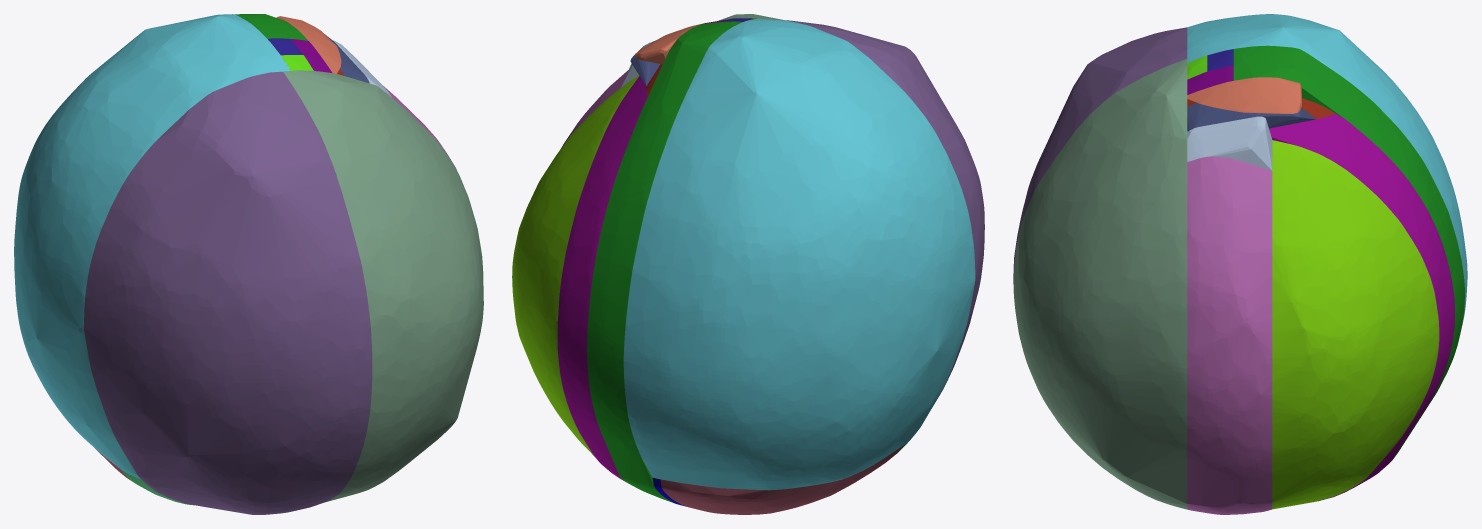
The model's file is coacd_collision.obj.
The picture shows the model from 3 angles, left to right: view 1: azimuth 30°, elevation 25°; view 2: azimuth 150°, elevation 25°; view 3: azimuth 270°, elevation 25°; orthographic projection. The views are drawn at different scales.
Parts seen in each view (by area): view 1: geometry_1, geometry_0, geometry_2, geometry_9, geometry_8, geometry_11; view 2: geometry_2, geometry_8, geometry_4, geometry_14, geometry_1, geometry_13, geometry_9; view 3: geometry_0, geometry_4, geometry_7, geometry_2, geometry_8, geometry_14, geometry_1, geometry_6, geometry_9, geometry_16, geometry_11.
Part boxes in pixels (box(x1,y1,x2,y2)): geometry_1: box(83, 72, 372, 514); geometry_0: box(283, 70, 483, 501); geometry_2: box(14, 14, 290, 479); geometry_9: box(276, 16, 341, 73); geometry_8: box(235, 14, 308, 40); geometry_11: box(290, 39, 332, 73); geometry_2: box(623, 18, 975, 490); geometry_8: box(587, 21, 742, 503); geometry_4: box(512, 75, 639, 456); geometry_14: box(557, 76, 647, 482); geometry_1: box(784, 20, 984, 395); geometry_13: box(660, 445, 903, 514); geometry_9: box(634, 23, 703, 64); geometry_0: box(1013, 59, 1187, 509); geometry_4: box(1272, 140, 1439, 509); geometry_7: box(1187, 156, 1272, 514); geometry_2: box(1187, 14, 1467, 337); geometry_8: box(1233, 45, 1464, 460); geometry_14: box(1269, 113, 1454, 501); geometry_1: box(1013, 27, 1187, 298); geometry_6: box(1187, 116, 1272, 170); geometry_9: box(1187, 77, 1302, 114); geometry_16: box(1187, 103, 1315, 131); geometry_11: box(1187, 65, 1233, 94).
Bounding box in the file's own units: 57.8 × 62.31 × 57.07.
